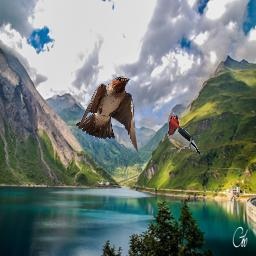Swallow: (76, 76, 139, 154)
Woodpecker: (166, 112, 204, 159)
